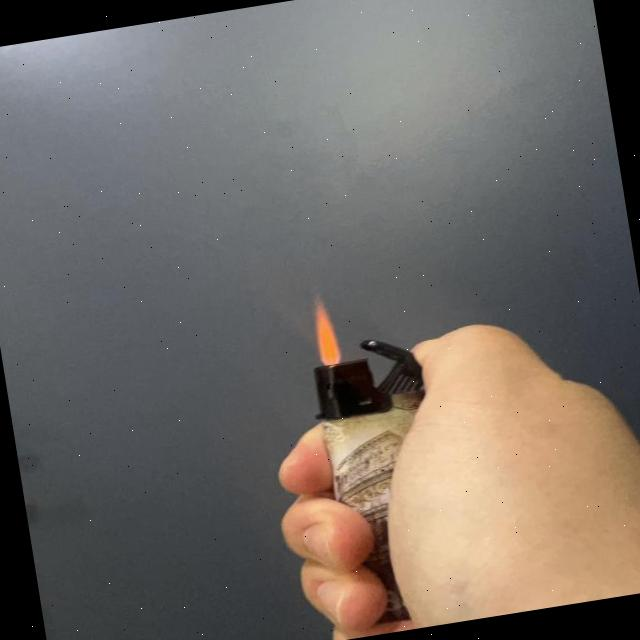fire: (306, 292, 344, 366)
